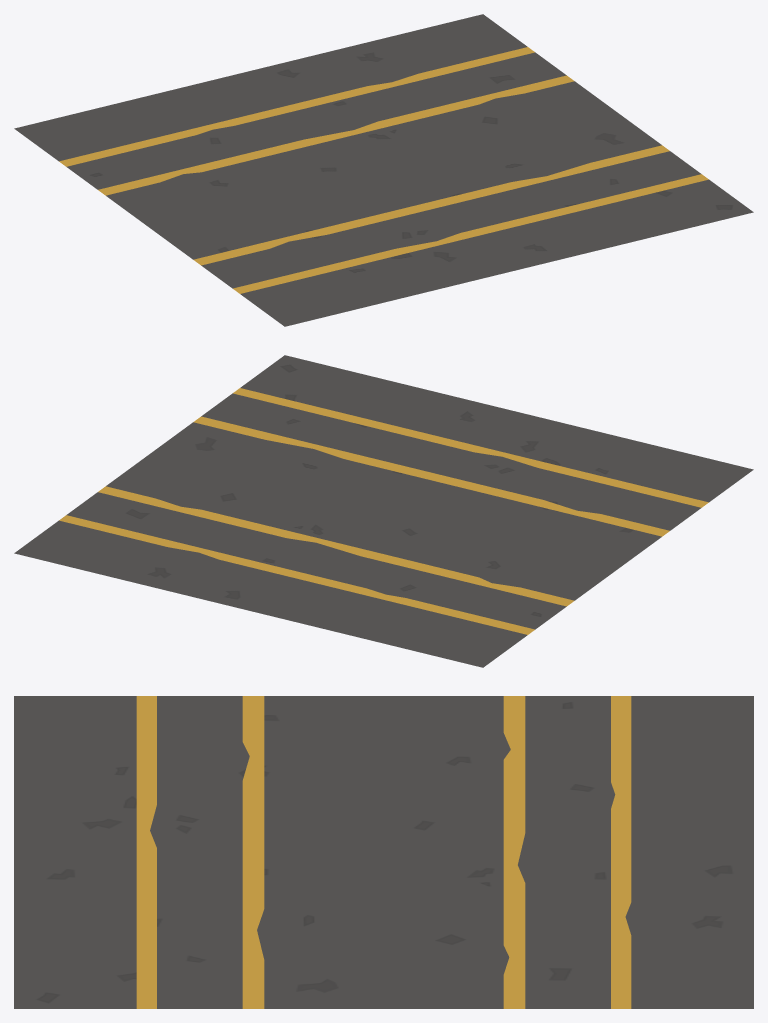
The model's file is SM_Env_Ground_Lines_Yellow_03.fbx.
3 views of the same model, one above another, from view 1: azimuth 30°, elevation 25°; view 2: azimuth 150°, elevation 25°; view 3: azimuth 270°, elevation 25° (orthographic). The views are drawn at different scales.
Visible parts, largest first — view 1: SM_Env_Ground_Lines_Yellow_03; view 2: SM_Env_Ground_Lines_Yellow_03; view 3: SM_Env_Ground_Lines_Yellow_03.
Part boxes in pixels (x1=…): SM_Env_Ground_Lines_Yellow_03: x1=14, y1=14, x2=753, y2=326; SM_Env_Ground_Lines_Yellow_03: x1=14, y1=355, x2=753, y2=667; SM_Env_Ground_Lines_Yellow_03: x1=14, y1=696, x2=753, y2=1008.
Bounding box in the file's own units: 1000 × 0 × 1000.
